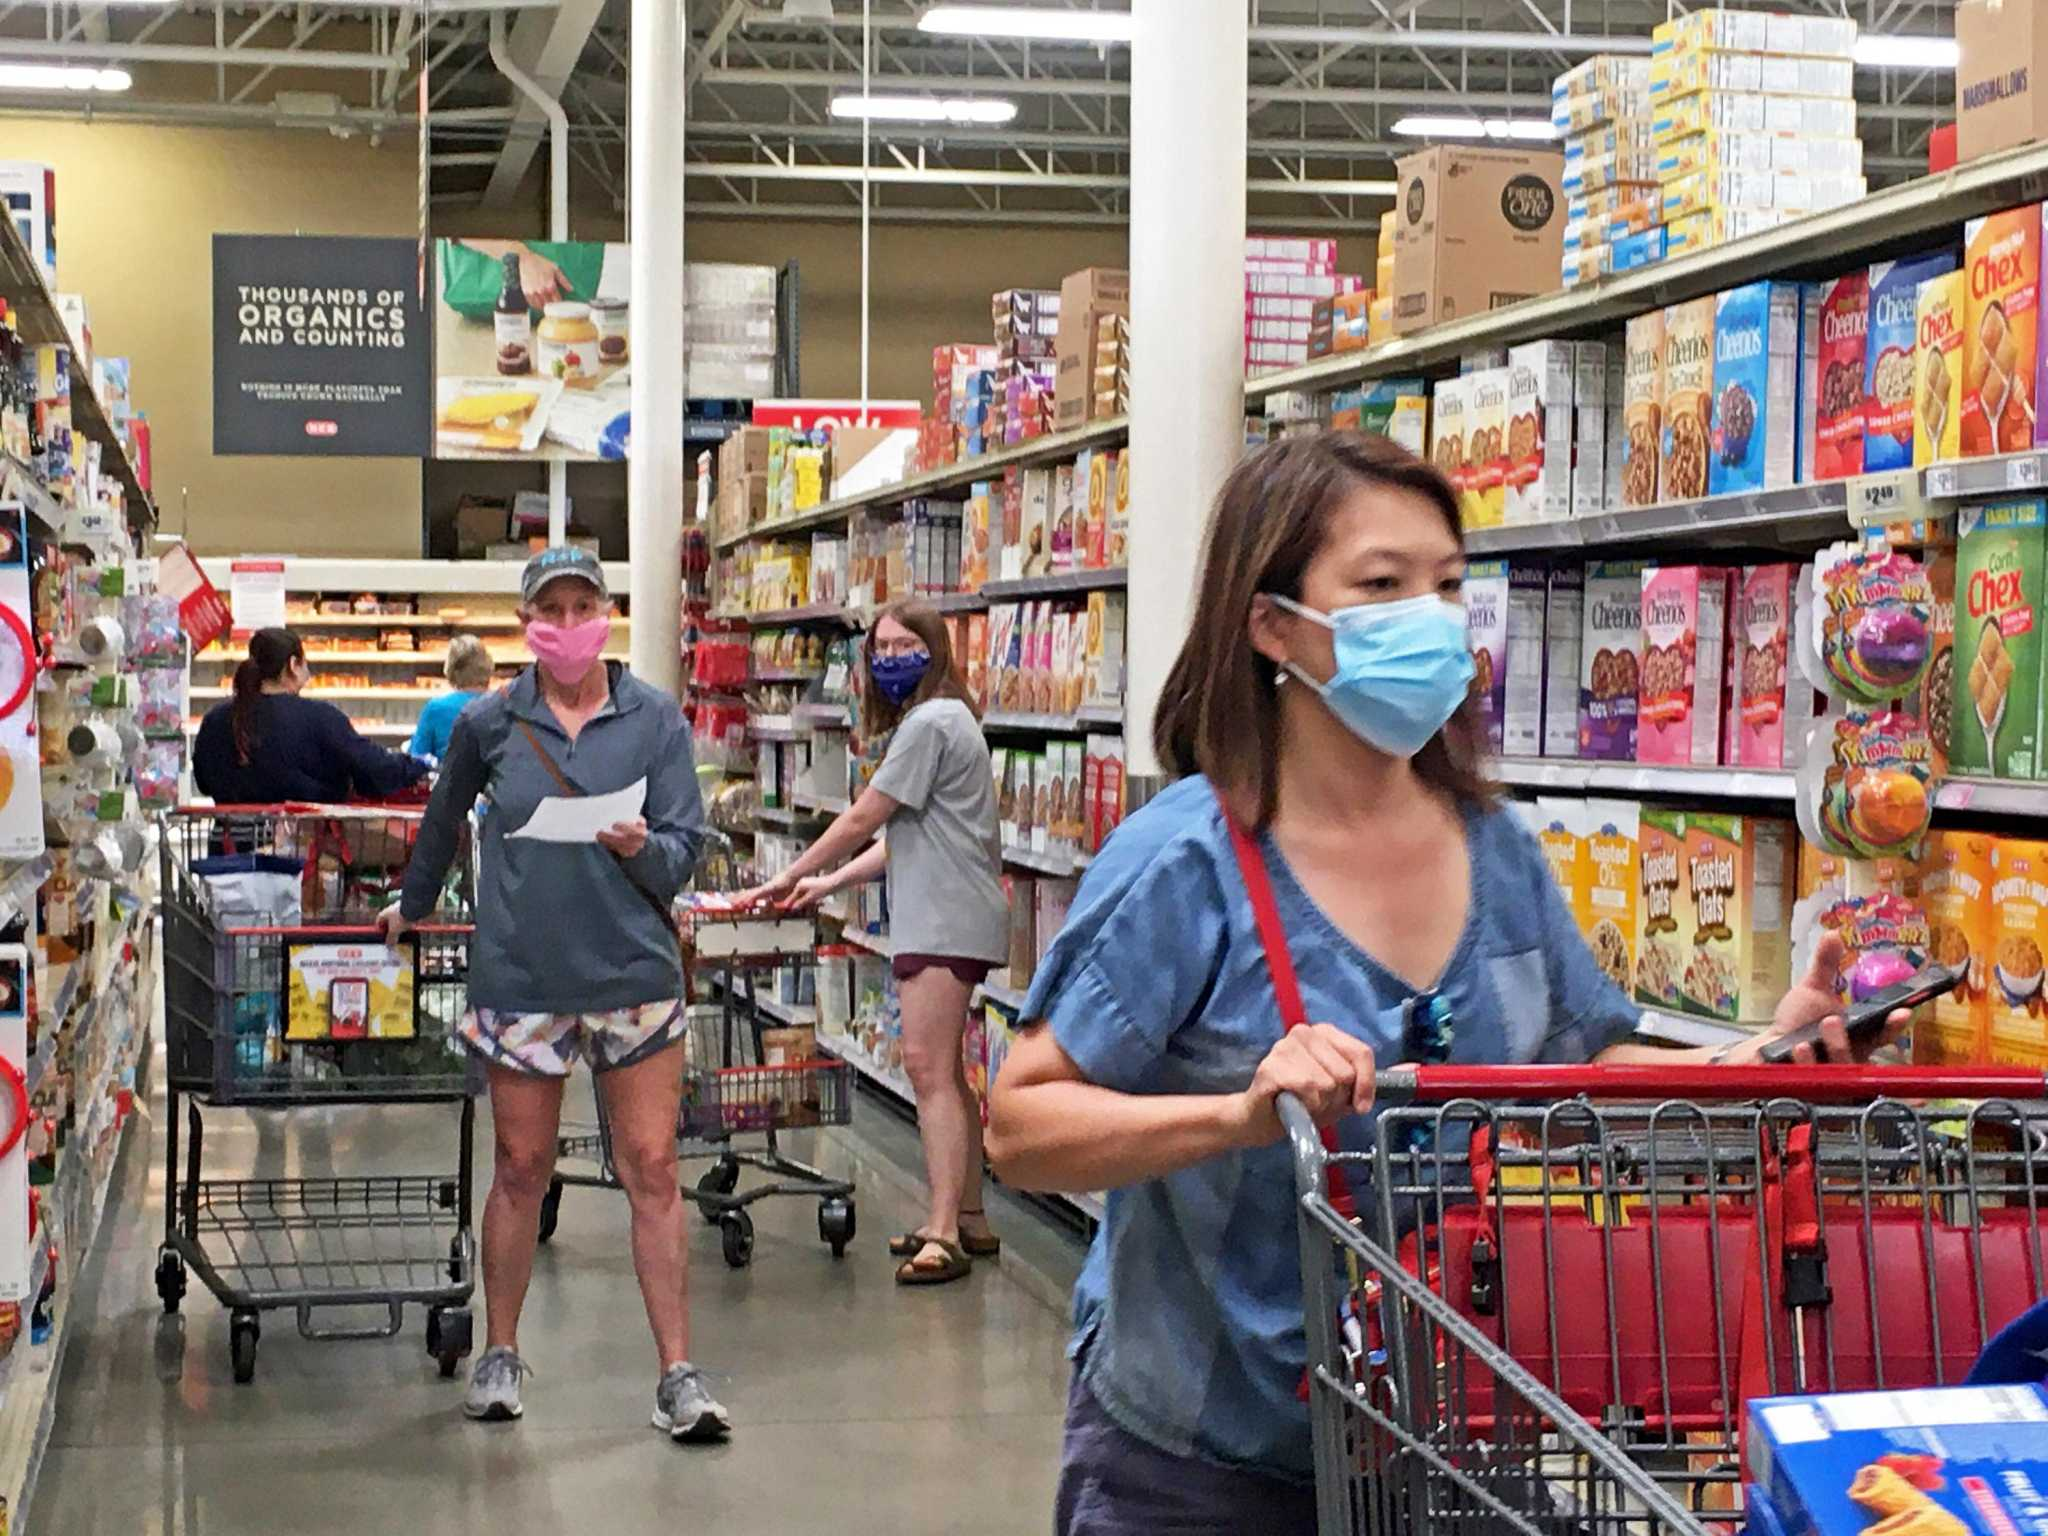with_mask: (1231, 475, 1484, 787), (538, 556, 606, 683), (870, 610, 923, 712)
